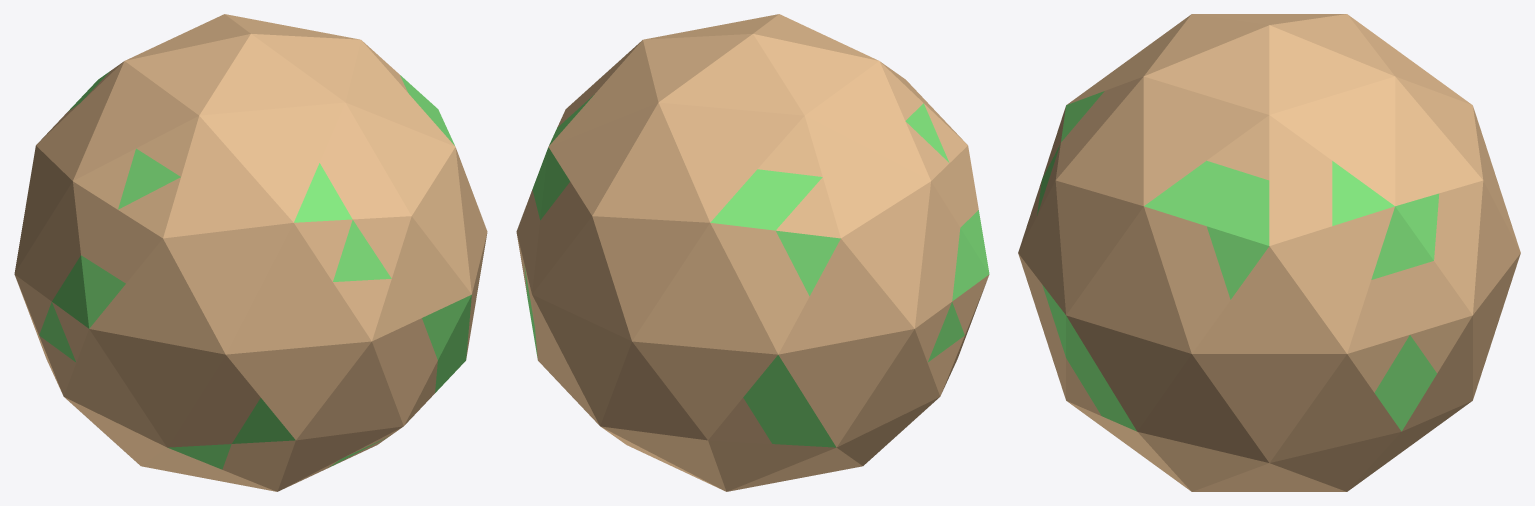
Rendered from 生物星球.fbx.
3 views of the same model, side by side, from view 1: azimuth 30°, elevation 25°; view 2: azimuth 150°, elevation 25°; view 3: azimuth 270°, elevation 25° (orthographic). The views are drawn at different scales.
Parts seen in each view (by area): view 1: Icosphere; view 2: Icosphere; view 3: Icosphere.
Part boxes in pixels (x1,y1,x2,y2): Icosphere: (14, 14, 487, 491); Icosphere: (516, 14, 989, 491); Icosphere: (1018, 14, 1520, 491).
Size of the model in its own units: 39392 by 41419 by 41419.
